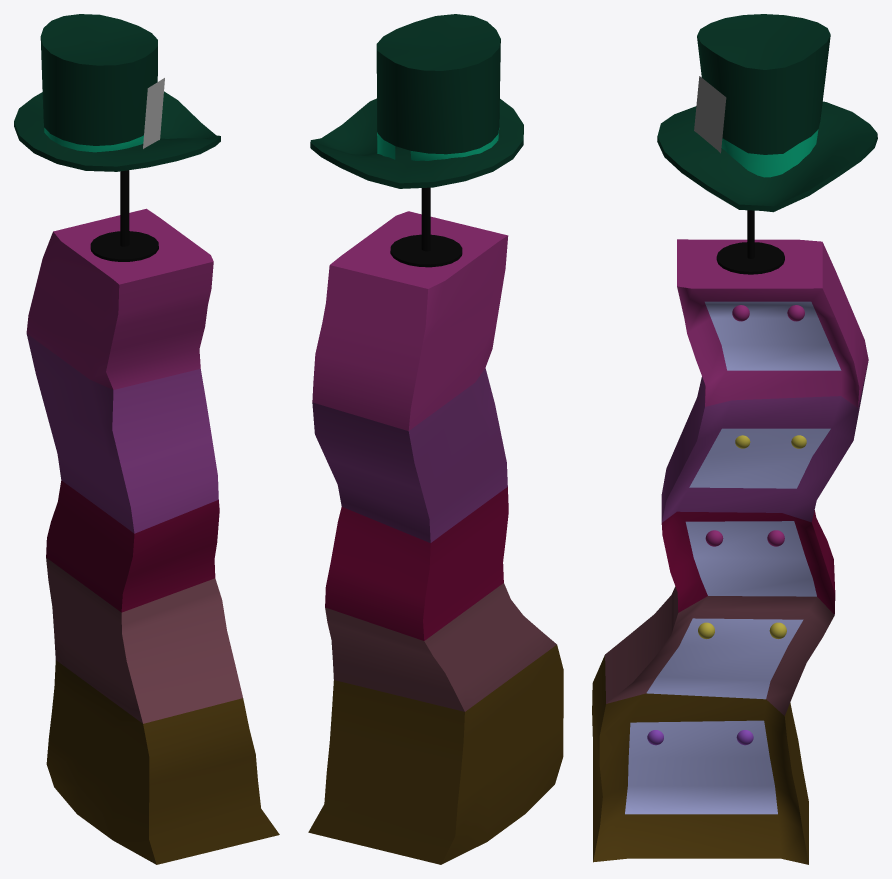
File: dresser.fbx
The picture shows the model from 3 angles, left to right: view 1: azimuth 30°, elevation 25°; view 2: azimuth 150°, elevation 25°; view 3: azimuth 270°, elevation 25°; orthographic projection. The views are drawn at different scales.
Parts seen in each view (by area): view 1: pCube1, pCylinder1, pPipe1, pCylinder2, pPlane1, pCylinder3; view 2: pCube1, pCylinder1, pPipe1, pCylinder2, pCylinder3; view 3: pCube1, pCylinder1, pPipe1, pCylinder2, pPlane1.
Part boxes in pixels (bbox=[...]): pCube1: bbox=[26, 208, 279, 864]; pCylinder1: bbox=[40, 14, 157, 152]; pPipe1: bbox=[14, 91, 220, 171]; pCylinder2: bbox=[90, 231, 158, 261]; pPlane1: bbox=[143, 78, 164, 148]; pCylinder3: bbox=[120, 170, 129, 246]; pCube1: bbox=[308, 211, 563, 864]; pCylinder1: bbox=[376, 14, 500, 160]; pPipe1: bbox=[310, 98, 523, 188]; pCylinder2: bbox=[390, 234, 462, 267]; pCylinder3: bbox=[421, 187, 430, 251]; pCube1: bbox=[592, 239, 868, 864]; pCylinder1: bbox=[697, 14, 830, 177]; pPipe1: bbox=[657, 101, 877, 212]; pCylinder2: bbox=[716, 242, 784, 274]; pPlane1: bbox=[694, 76, 726, 153].
Size of the model in its own units: 4.57 by 18.95 by 6.31.
